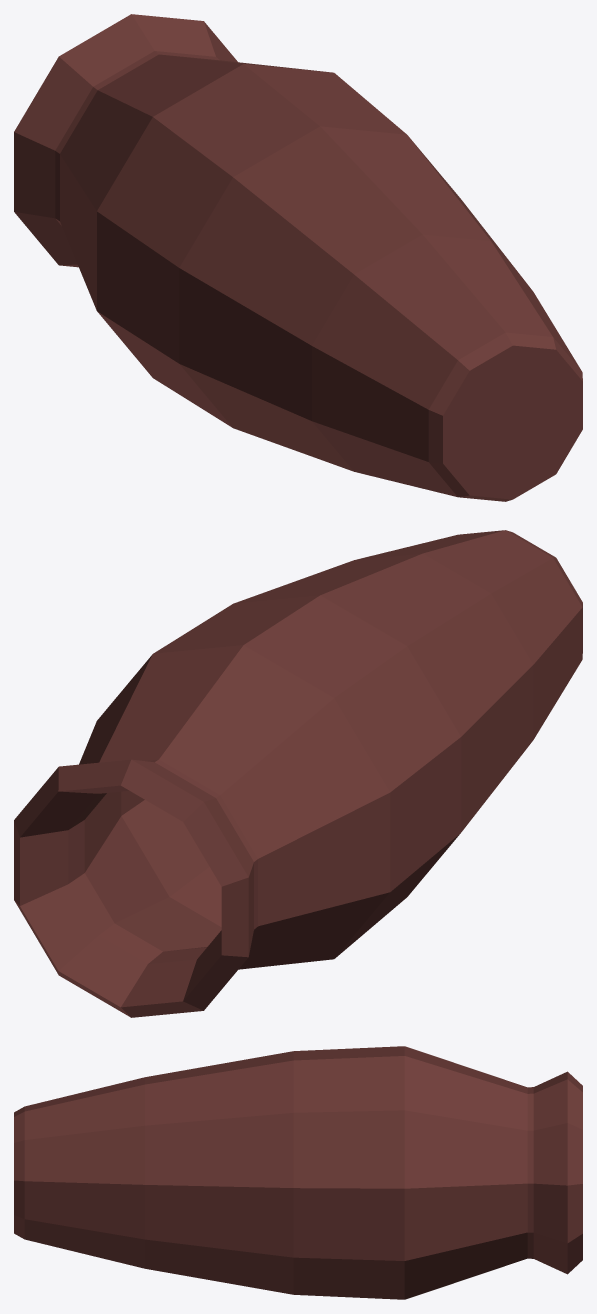
Rendered from Large_Pot_v005(UV_Unwrapped).fbx.
The picture shows the model from 3 angles, top to bottom: view 1: azimuth 30°, elevation 25°; view 2: azimuth 150°, elevation 25°; view 3: azimuth 270°, elevation 25°; orthographic projection. The views are drawn at different scales.
Visible parts, largest first — view 1: Pot; view 2: Pot; view 3: Pot.
Boxes of the visible parts, x1,y1,x2,y2 form: Pot: (14, 14, 582, 501); Pot: (14, 530, 582, 1017); Pot: (14, 1046, 582, 1299).
Size of the model in its own units: 285 by 300 by 661.
